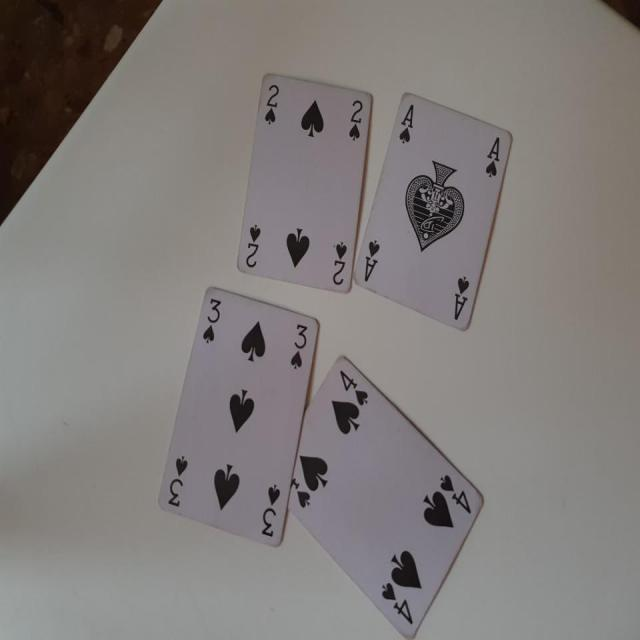2 Spades: (242, 72, 370, 300)
3 Spades: (161, 288, 312, 568)
4 Spades: (280, 366, 488, 634)
A Spades: (362, 95, 508, 332)
